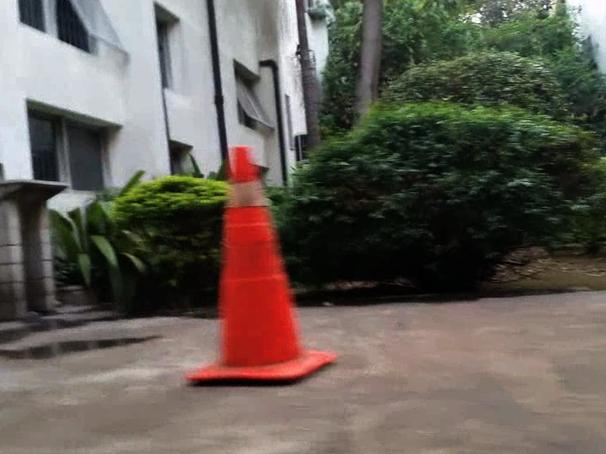0 cone: (186, 144, 332, 383)
